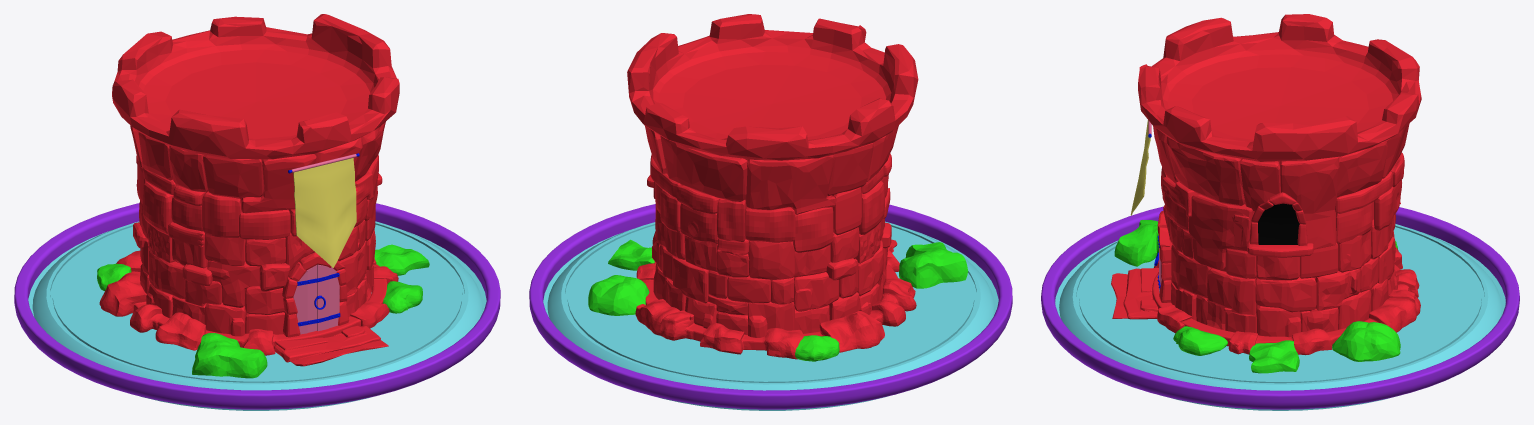
Rendered from CastleBase2.fbx.
3 views of the same model, side by side, from view 1: azimuth 30°, elevation 25°; view 2: azimuth 150°, elevation 25°; view 3: azimuth 270°, elevation 25° (orthographic).
Parts seen in each view (by area): view 1: Base, Battlement, Brick2.016, Tower Base, Plane, Rock 1, Cube.021, Lower Stair, Arch 1; view 2: Base, Brick2.016, Battlement, Tower Base, Rock 1; view 3: Base, Brick2.016, Battlement, Rock 1, Tower Base, Cube.017, Lower Stair, Arch 1, Plane.
Part boxes in pixels (left/top/right/bottom): Base: left=14, top=203, right=500, bottom=410; Battlement: left=112, top=14, right=399, bottom=159; Brick2.016: left=130, top=121, right=385, bottom=336; Tower Base: left=99, top=250, right=398, bottom=355; Plane: left=288, top=153, right=359, bottom=267; Rock 1: left=97, top=244, right=429, bottom=378; Cube.021: left=293, top=264, right=340, bottom=334; Lower Stair: left=274, top=325, right=388, bottom=366; Arch 1: left=282, top=252, right=349, bottom=337; Base: left=529, top=204, right=1012, bottom=410; Brick2.016: left=644, top=125, right=898, bottom=337; Battlement: left=627, top=14, right=918, bottom=160; Tower Base: left=635, top=250, right=916, bottom=359; Rock 1: left=588, top=239, right=968, bottom=361; Base: left=1041, top=206, right=1519, bottom=410; Brick2.016: left=1153, top=123, right=1409, bottom=337; Battlement: left=1138, top=14, right=1421, bottom=161; Rock 1: left=1114, top=220, right=1400, bottom=373; Tower Base: left=1152, top=247, right=1420, bottom=355; Cube.017: left=1247, top=192, right=1313, bottom=257; Lower Stair: left=1111, top=268, right=1158, bottom=319; Arch 1: left=1157, top=211, right=1172, bottom=302; Plane: left=1130, top=120, right=1151, bottom=215.
Bounding box in the file's own units: 889 × 513 × 889.
